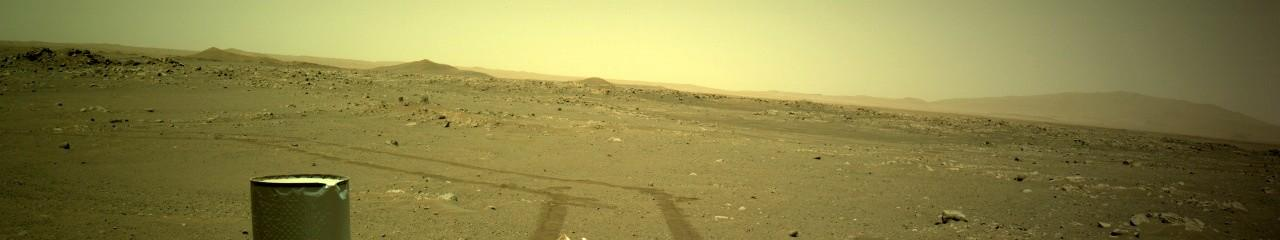bedrock: (1033, 180, 1266, 232), (749, 101, 1060, 139), (7, 46, 247, 88), (943, 233, 1095, 237), (932, 233, 939, 236)
sand: (651, 119, 677, 120)
soil: (1, 79, 1273, 238)
